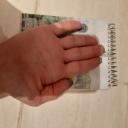OpenPalm: (4, 17, 106, 108)
